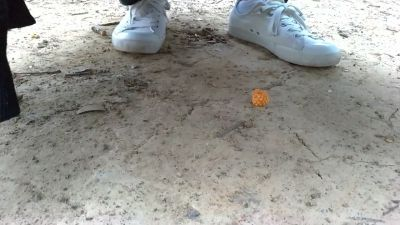eggs: (250, 87, 276, 116)
